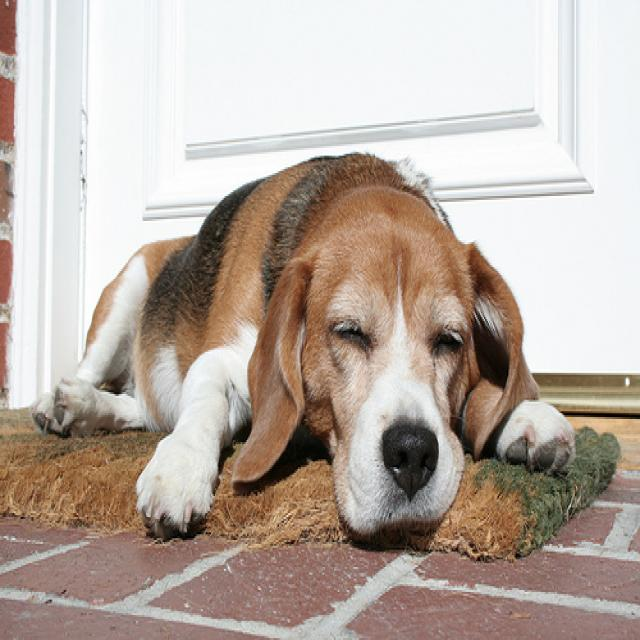dog-beagle: (28, 148, 581, 540)
